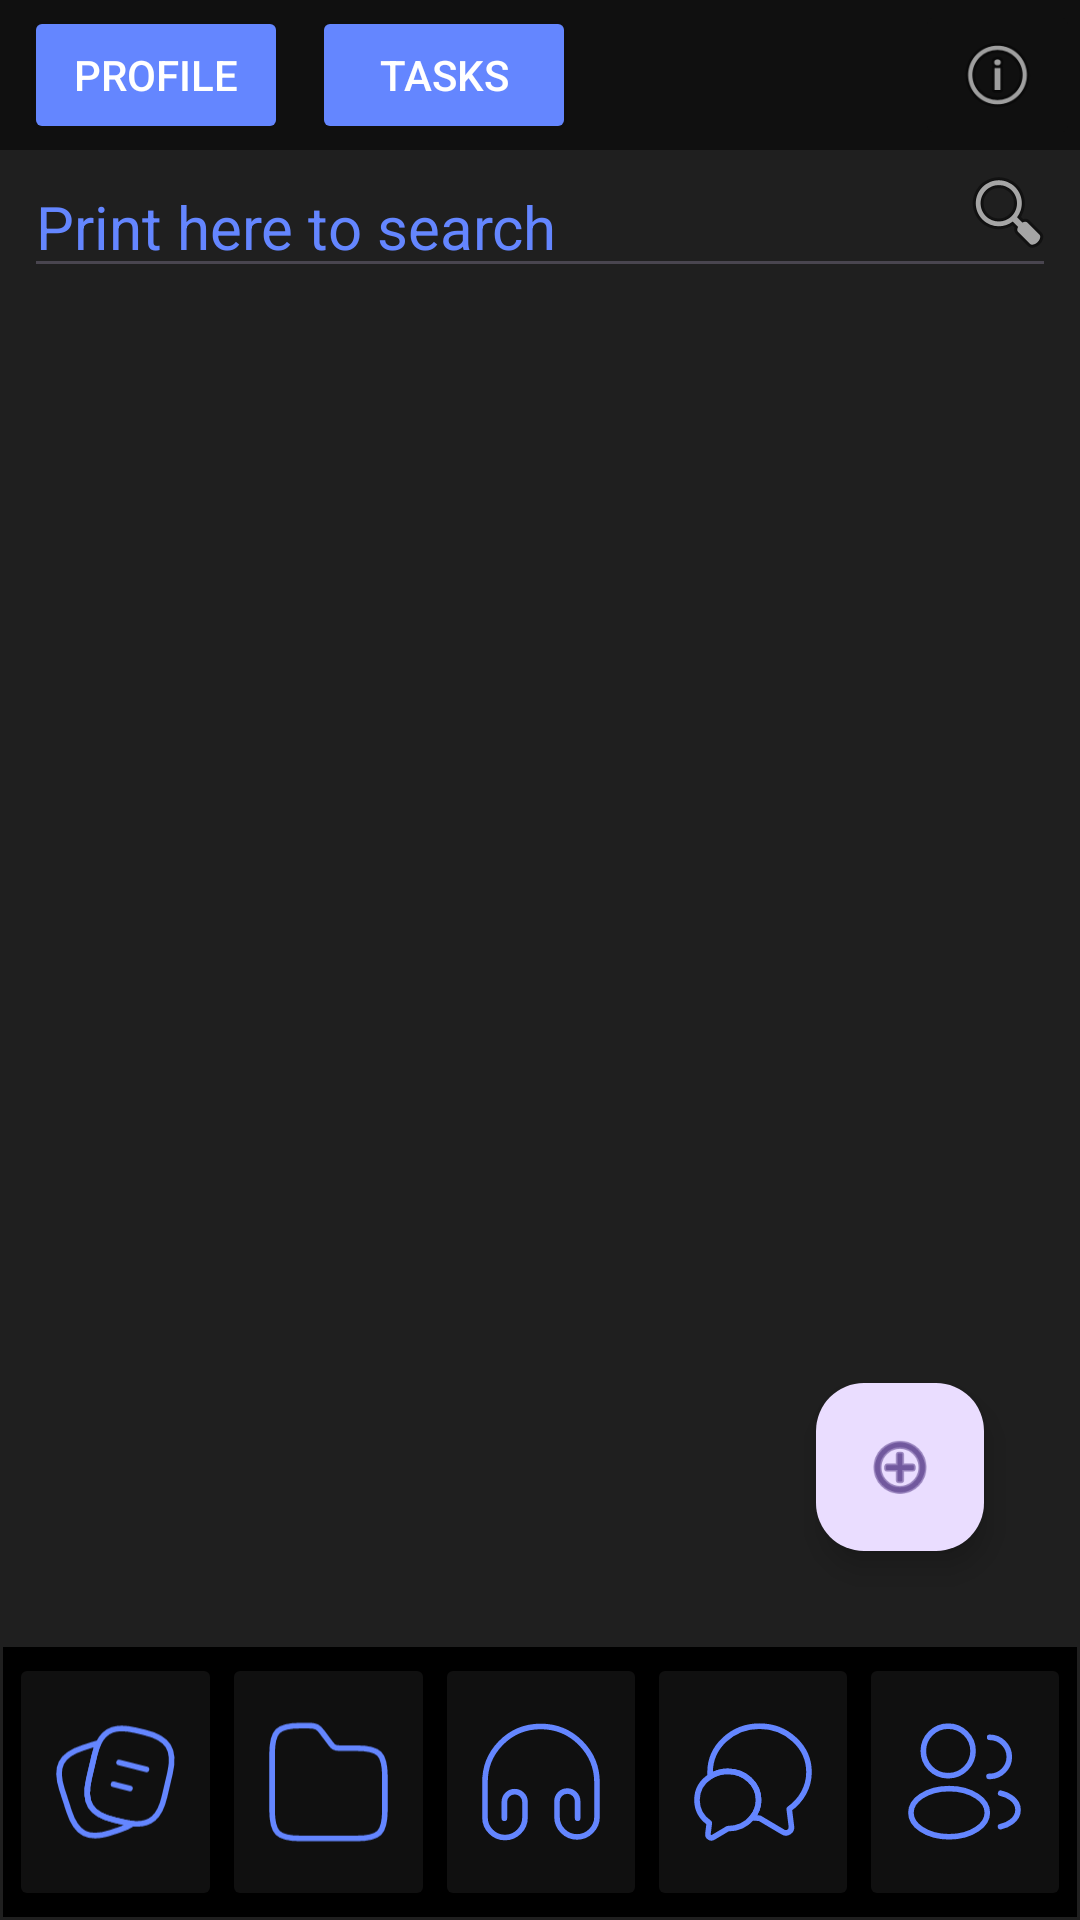

Icon click points for this 1080×1920 phone screenshot, format point (x, y):
add: point (900, 1467)
folder: point (328, 1782)
headphone: point (541, 1782)
info details: point (997, 75)
messages: point (753, 1782)
note: point (115, 1782)
profile 2user: point (965, 1782)
